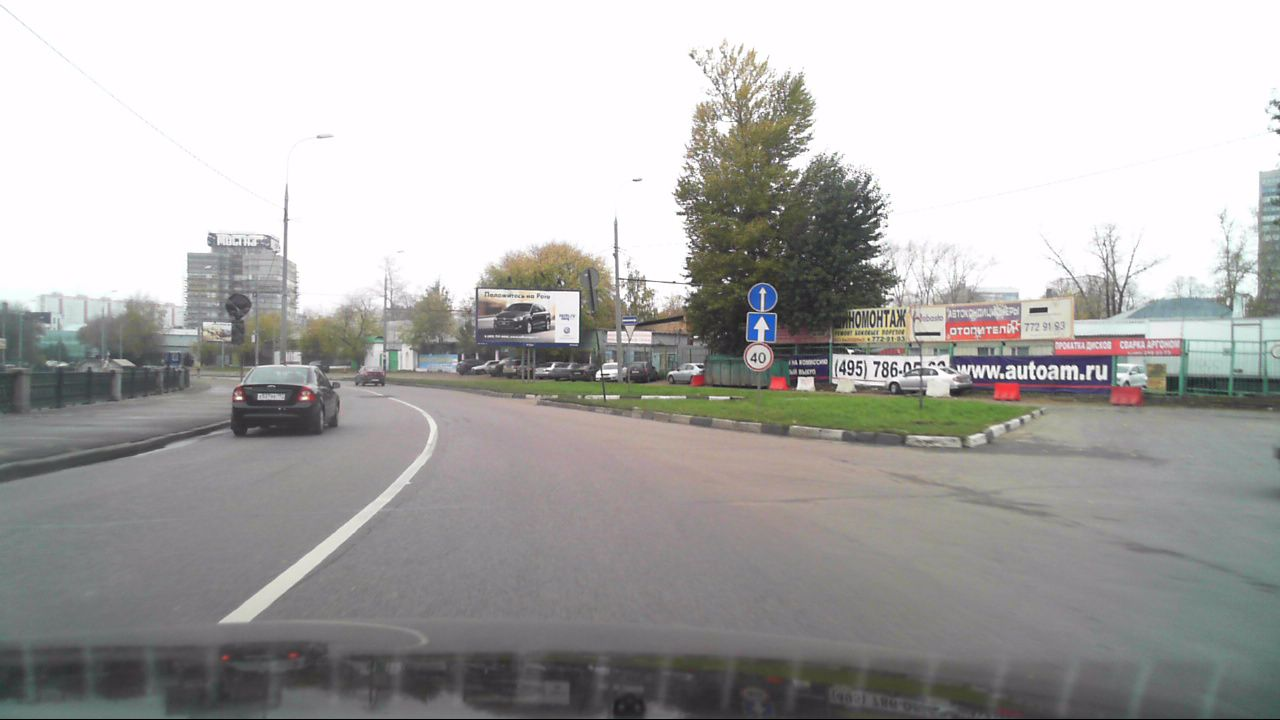speed_warning_40: (744, 342, 772, 371)
